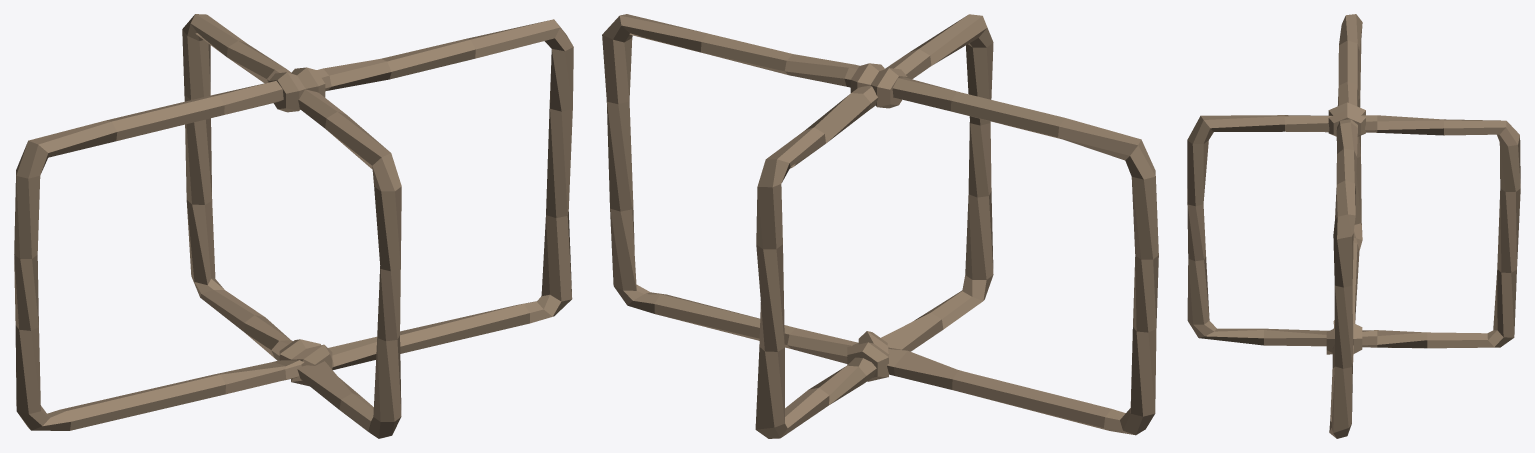
Rendered from SM_Prop_Crate_02_Insert_01.fbx.
The picture shows the model from 3 angles, left to right: view 1: azimuth 30°, elevation 25°; view 2: azimuth 150°, elevation 25°; view 3: azimuth 270°, elevation 25°; orthographic projection. The views are drawn at different scales.
Parts seen in each view (by area): view 1: SM_Prop_Crate_02_Insert_01; view 2: SM_Prop_Crate_02_Insert_01; view 3: SM_Prop_Crate_02_Insert_01.
Boxes of the visible parts, left/top/right/bottom form: SM_Prop_Crate_02_Insert_01: left=14, top=14, right=573, bottom=438; SM_Prop_Crate_02_Insert_01: left=602, top=14, right=1158, bottom=438; SM_Prop_Crate_02_Insert_01: left=1187, top=14, right=1520, bottom=438.
Size of the model in its own units: 115 by 62.25 by 76.71.
